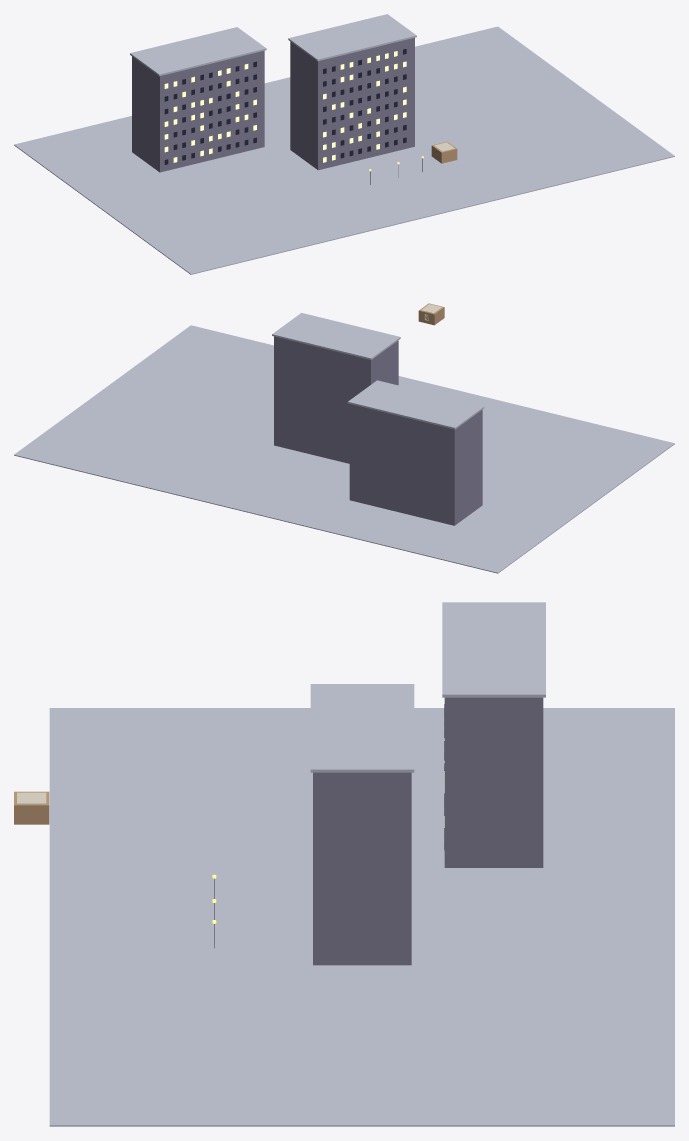
Rendered from bedroom.glb.
The picture shows the model from 3 angles, top to bottom: view 1: azimuth 30°, elevation 25°; view 2: azimuth 150°, elevation 25°; view 3: azimuth 270°, elevation 25°; orthographic projection. The views are drawn at different scales.
Visible parts, largest first — view 1: Ground, Building_Front, Building_Left; view 2: Ground, Building_Left, Building_Front; view 3: Ground, Building_Front, Building_Left, Walls.
Part boxes in pixels (x1,y1,x2,y2): Ground: [14, 26, 674, 274]; Building_Front: [288, 14, 416, 170]; Building_Left: [130, 27, 266, 172]; Ground: [14, 325, 674, 573]; Building_Left: [347, 380, 484, 525]; Building_Front: [272, 313, 400, 463]; Ground: [49, 708, 674, 1126]; Building_Front: [310, 684, 414, 965]; Building_Left: [442, 602, 545, 867]; Walls: [14, 791, 49, 824].
Size of what is drawn, in the model's own units: 120 by 26.6 by 80.35.
